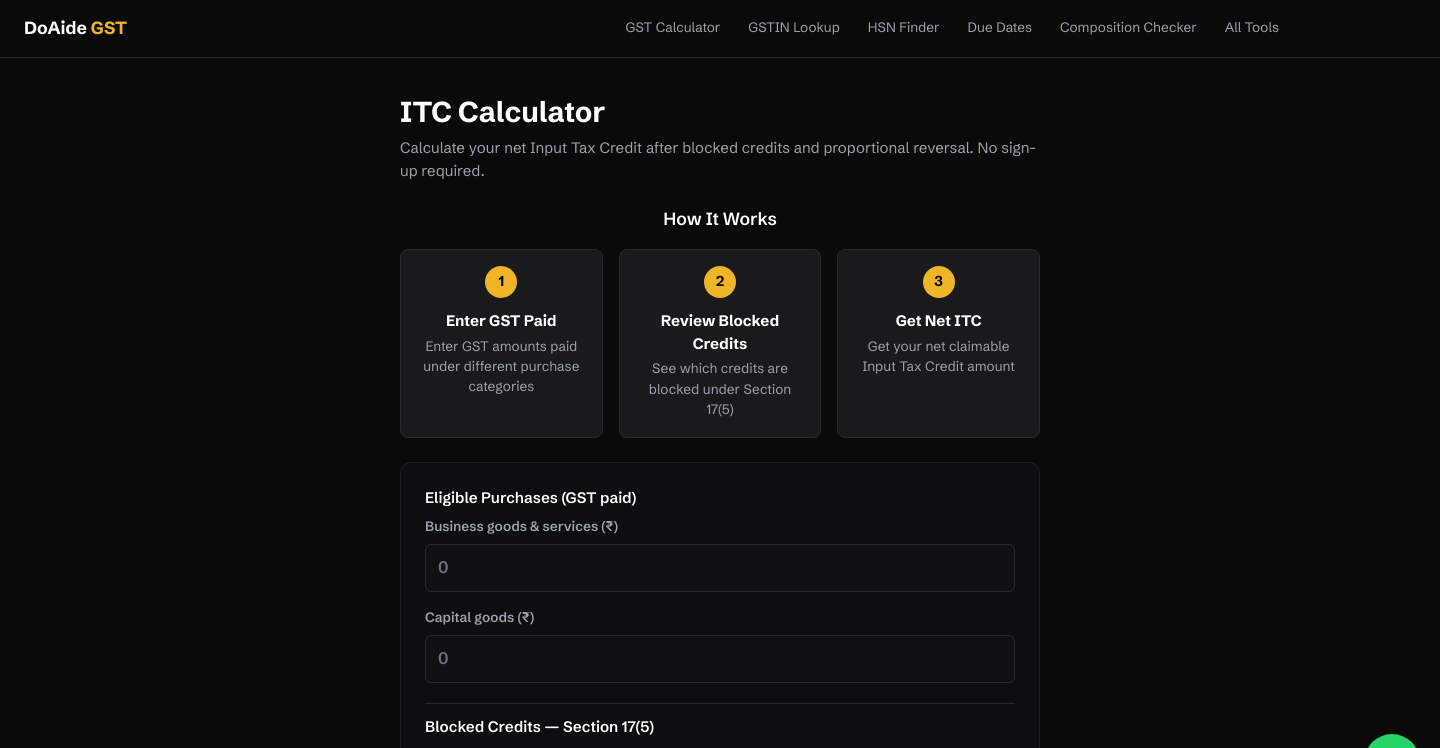
it: ItcCalculatorPage › calculates eligible ITC from business purchases
Type "50000" into the number field with placeholder "0". click: (720,568)
box: [425,544,1015,592]
(page scrolled)
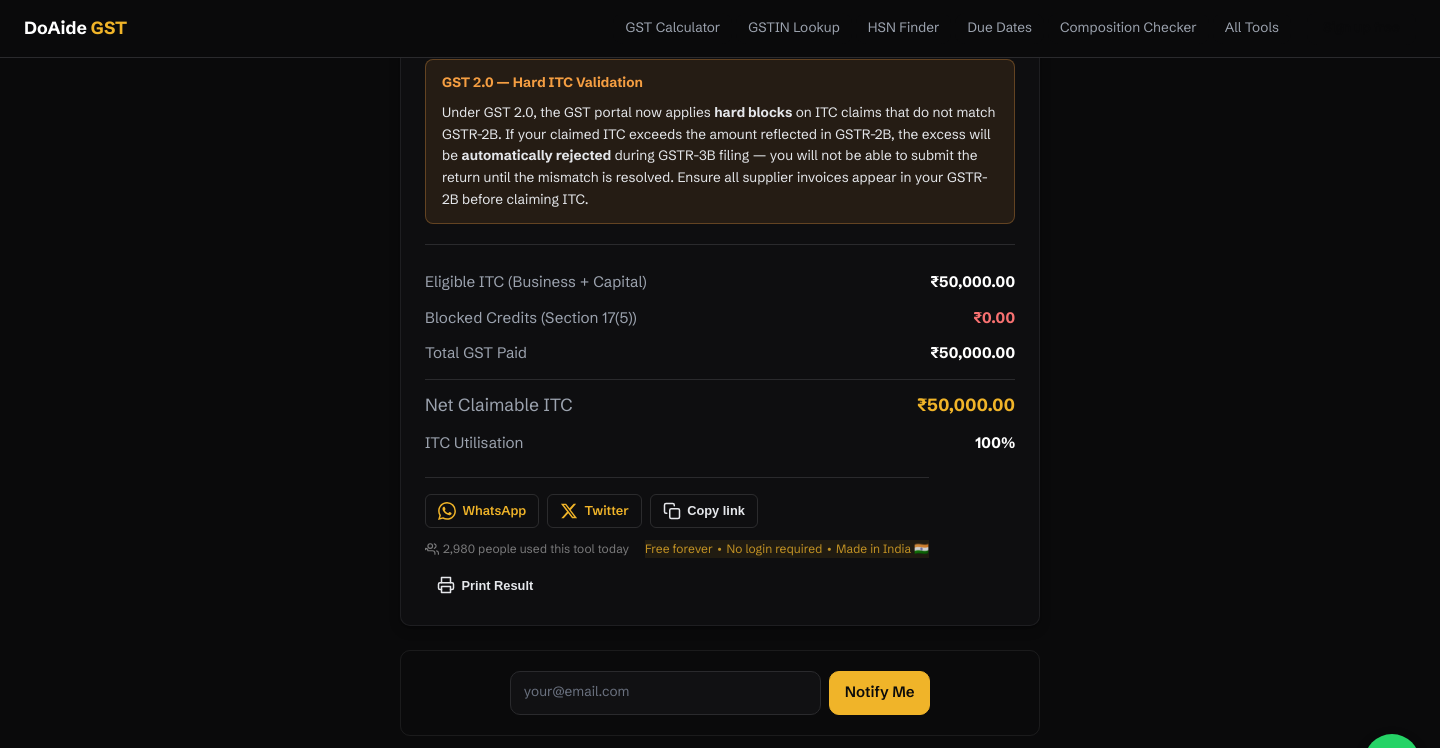
Now the text "Net Claimable ITC" is shown, box [425,392,573,419]
